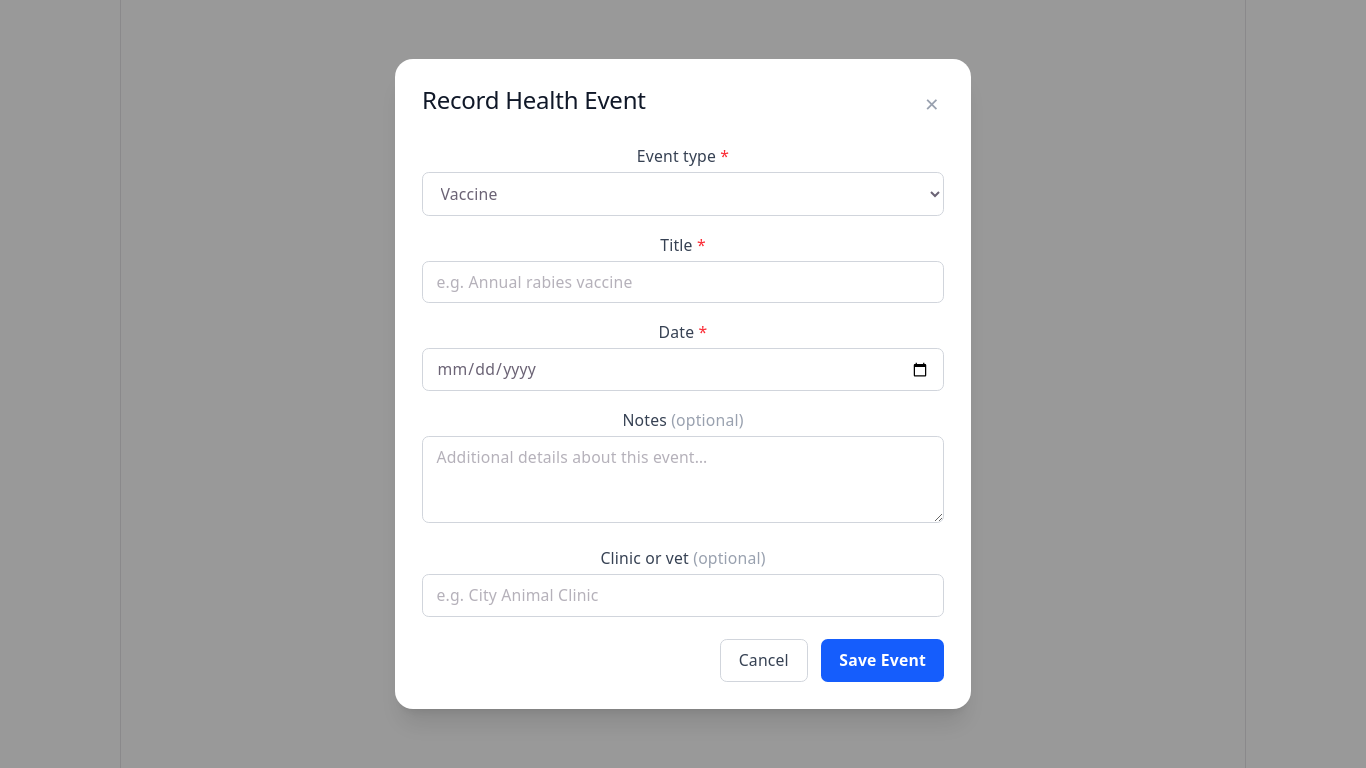
Scenario: EventFormModal › shows validation errors when submitting with empty required fields
The width and height of the screenshot is (1366, 768).
Note: Clear the title field and submit
Clear the field labelled "Title *" at x=683, y=282, box [422,261,944,303]
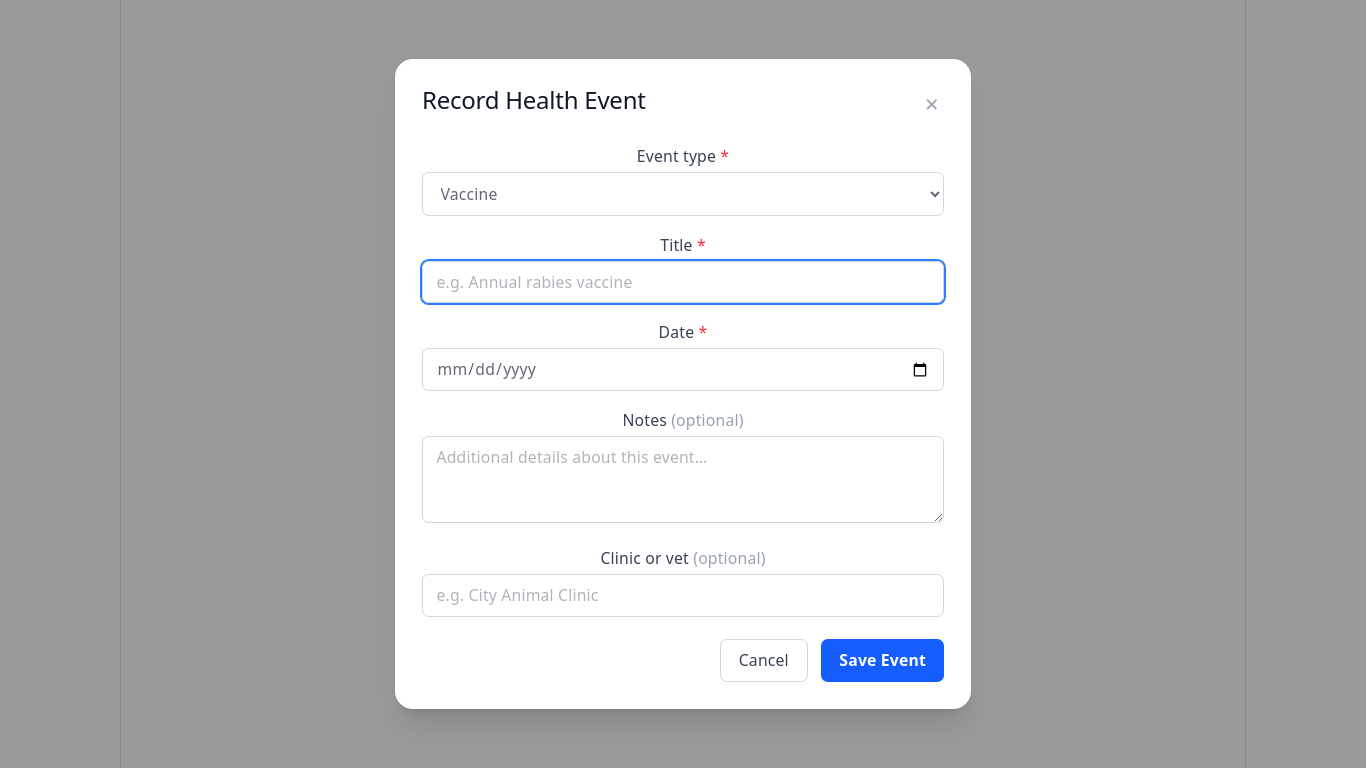
Click the button "Save Event".
click(883, 661)  # box [821,640,944,682]
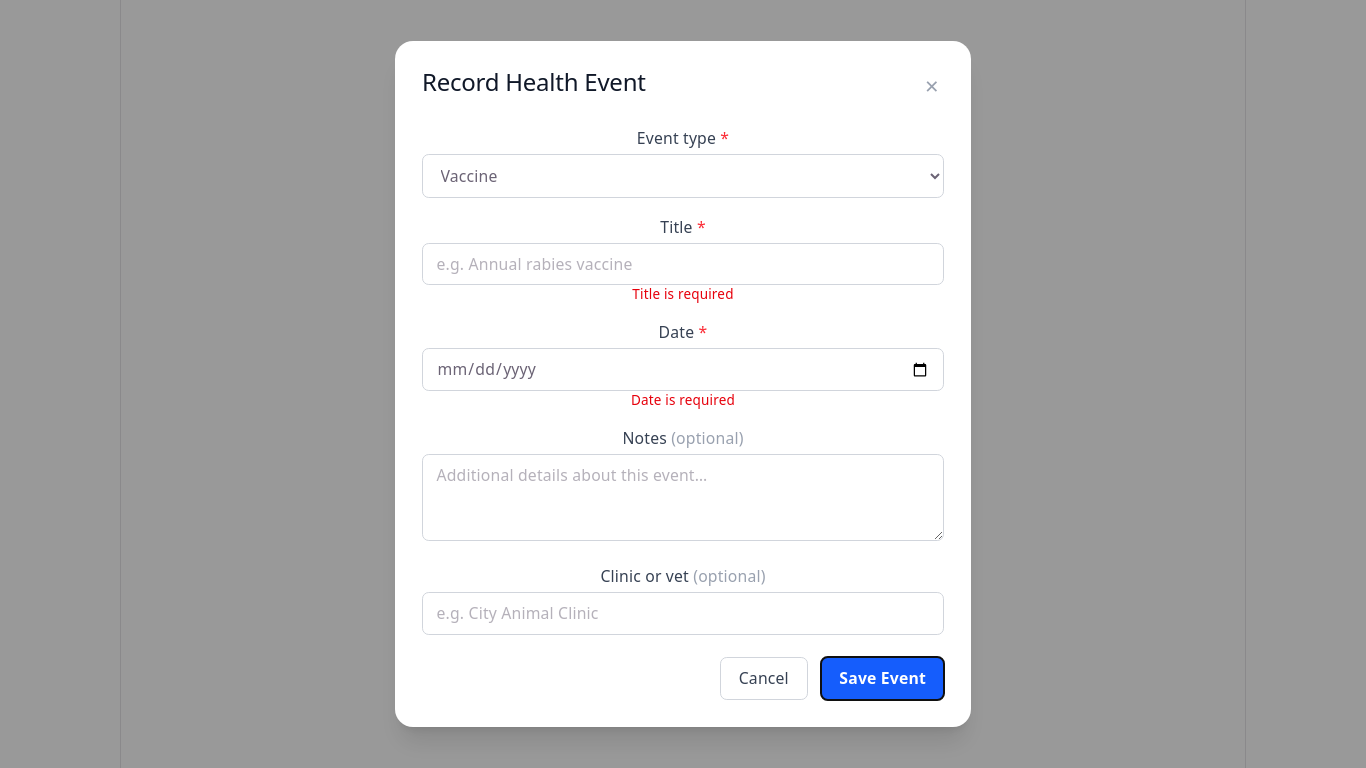
Expected: the text "Title is required" is shown, [632,285,734,303]
